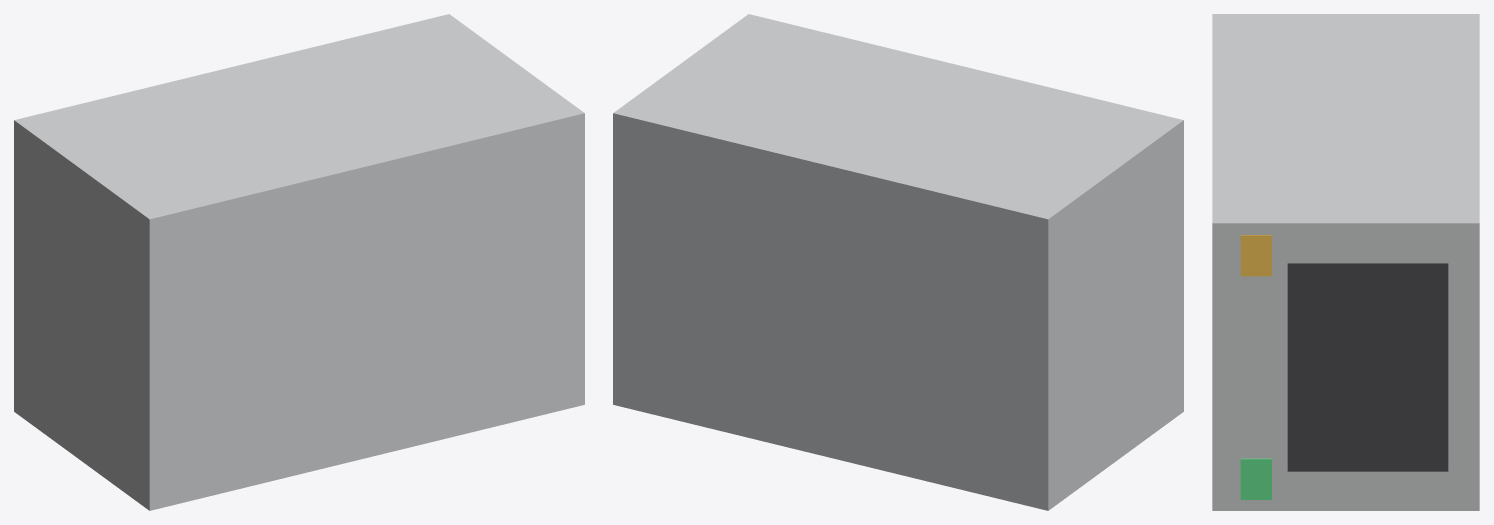
File: RJ45_Wuerth_7499010121A_Horizontal.glb
The picture shows the model from 3 angles, left to right: view 1: azimuth 30°, elevation 25°; view 2: azimuth 150°, elevation 25°; view 3: azimuth 270°, elevation 25°; orthographic projection.
Size of the model in its own units: 25.37 by 16.2 by 13.65.
